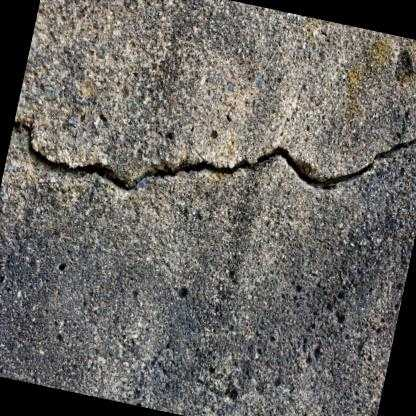crack: (16, 117, 416, 197)
